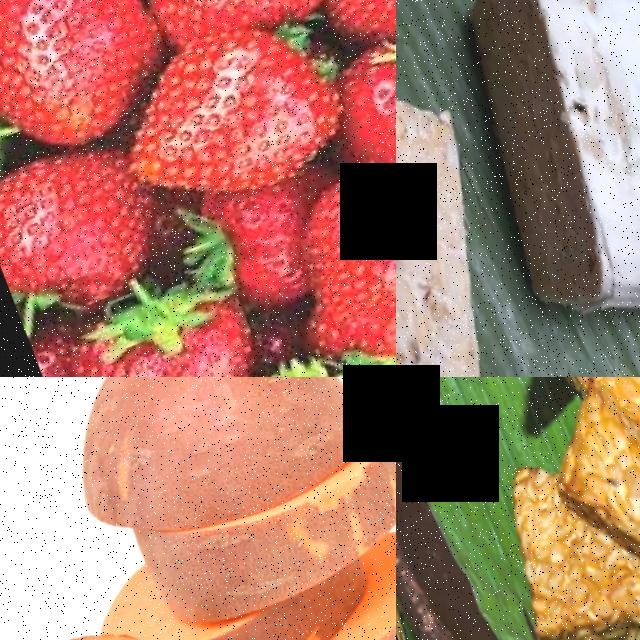strawberry: (110, 18, 355, 231), (0, 129, 170, 337), (0, 0, 169, 149), (64, 273, 274, 377), (281, 173, 396, 343), (124, 0, 334, 64), (326, 28, 396, 194)
sweet potato: (16, 377, 382, 572)
tempeh: (421, 0, 640, 359), (477, 383, 640, 640), (396, 208, 514, 377)
